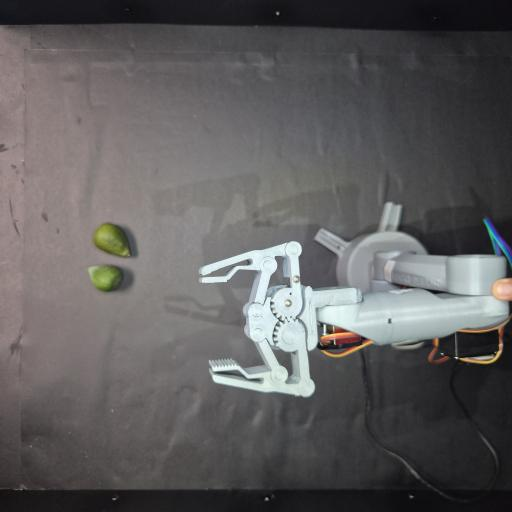higo: (93, 223, 130, 257), (88, 265, 123, 291)
